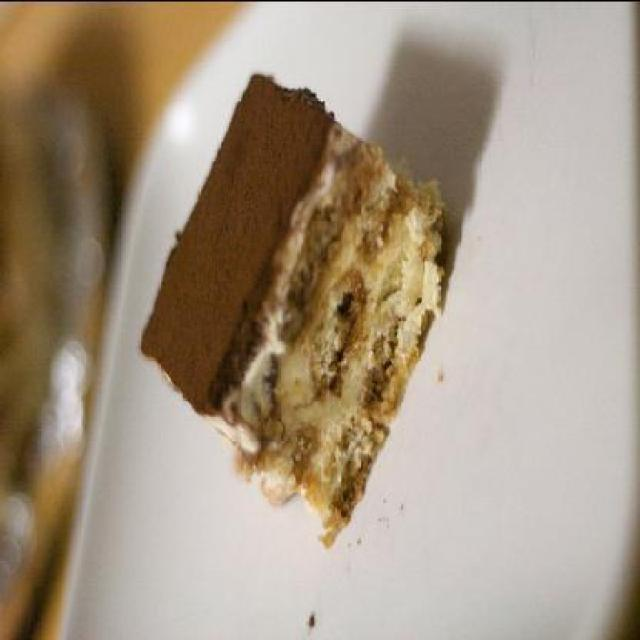Tiramisu: (145, 37, 444, 585)
